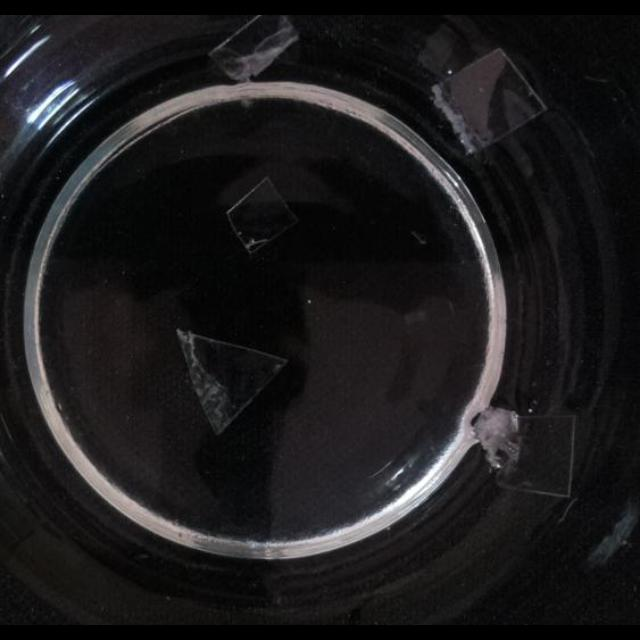Film: (424, 44, 550, 158), (174, 324, 286, 432), (474, 404, 576, 496), (204, 15, 300, 86), (224, 177, 298, 251)
